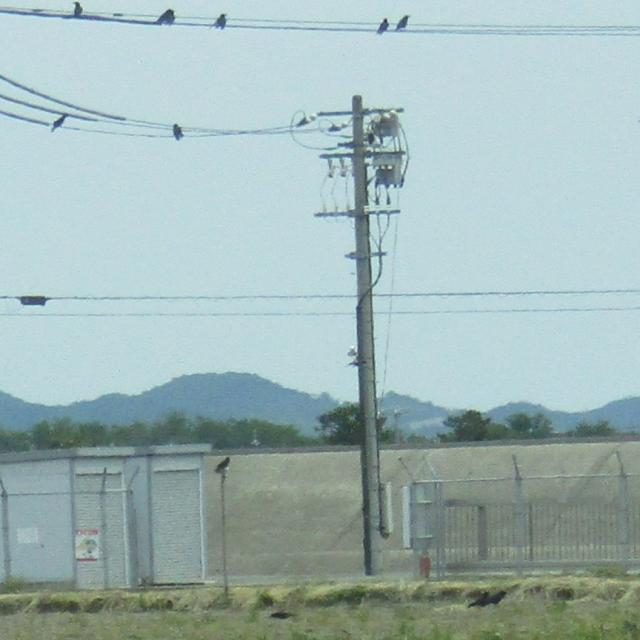pole: (305, 79, 425, 595)
